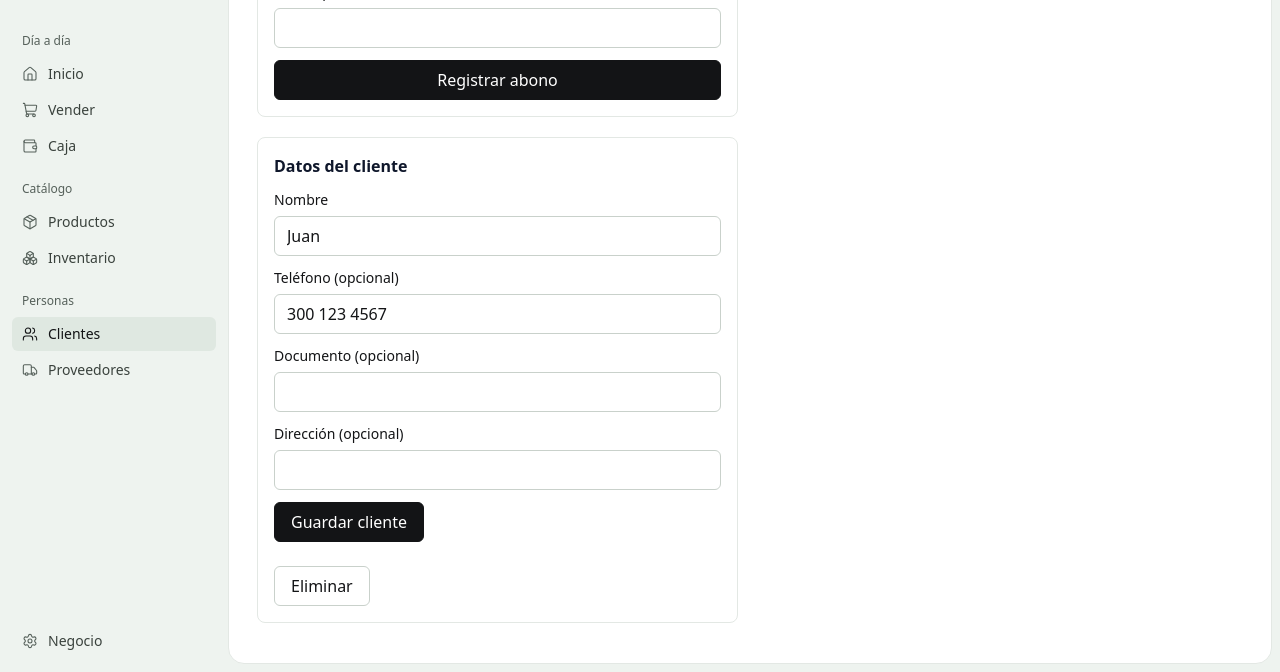
customers and debts › explains why a customer with debt cannot be deleted
(page scrolled)
Click the button with aria-label "Eliminar cliente" at {"x": 322, "y": 586}, box [274,566,370,606]
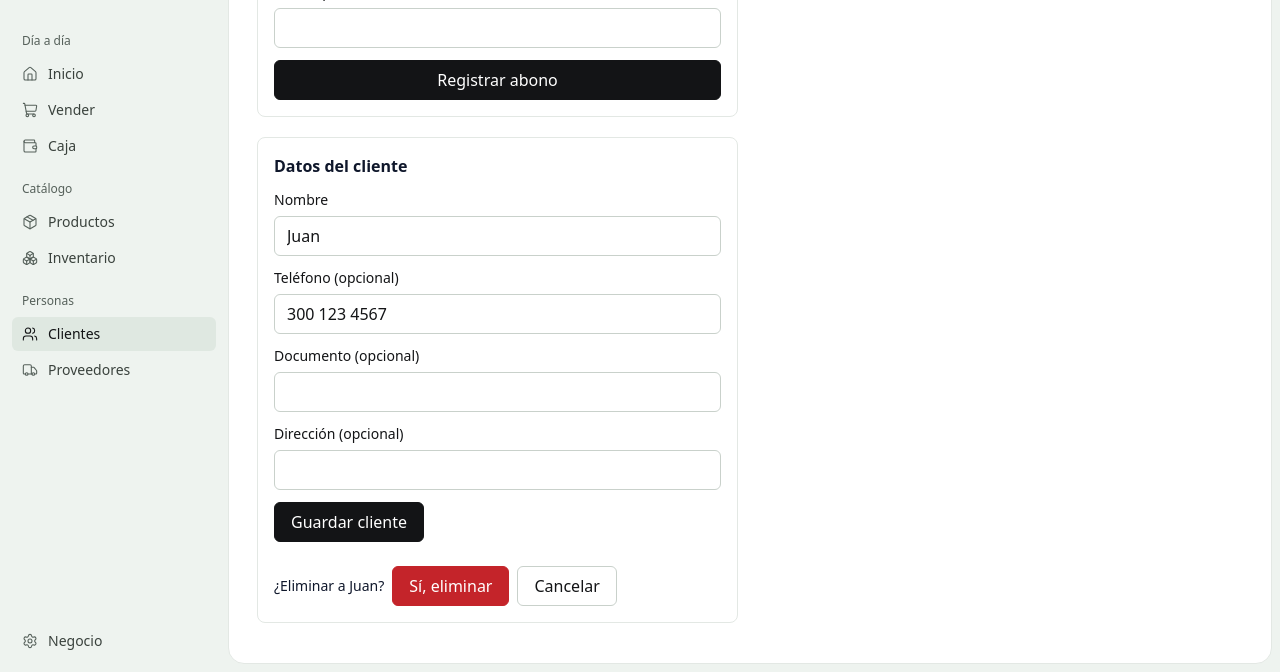
Click the button "Sí, eliminar" at {"x": 451, "y": 586}, box [392,566,510,606]
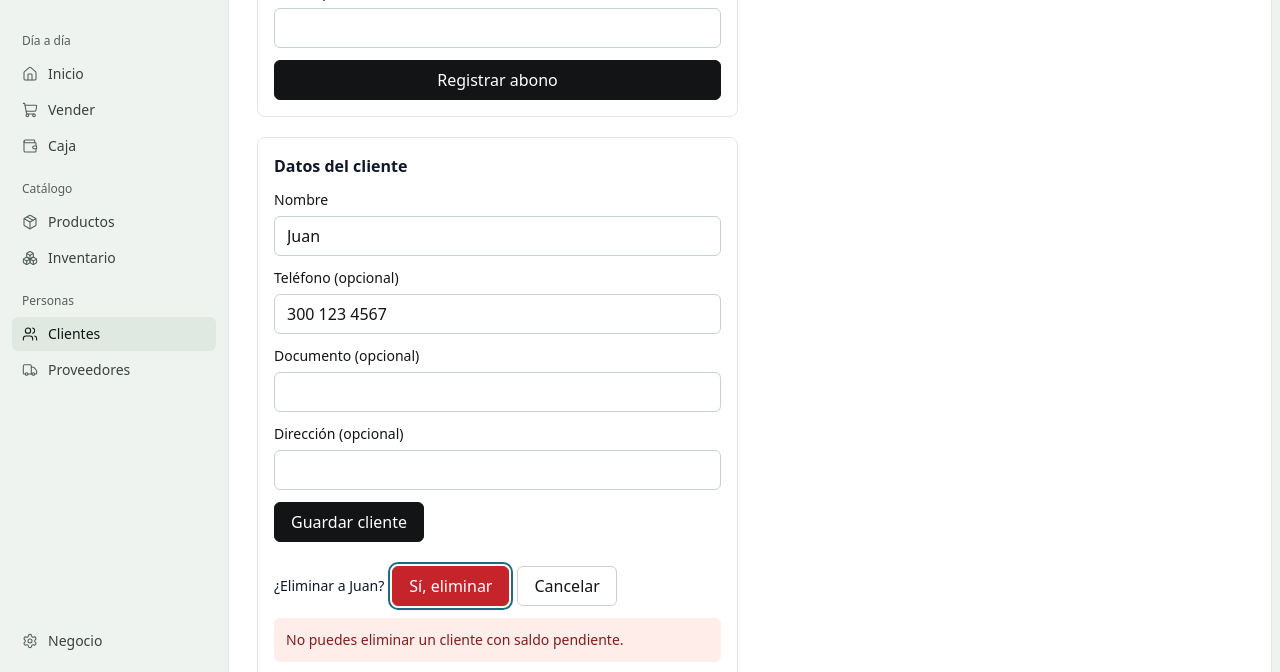
Expected: the message reads "No puedes eliminar un cliente con saldo pendiente.", [286,630,624,649]
